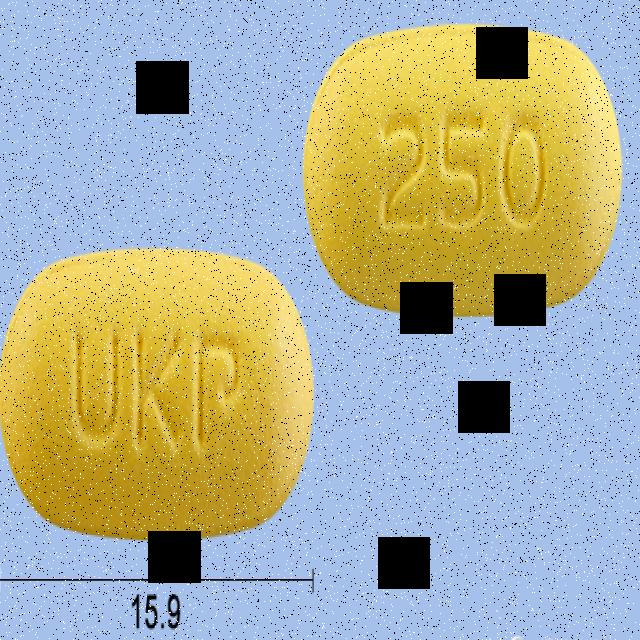Clazin - 500mg: (300, 25, 624, 316), (0, 241, 314, 540)
